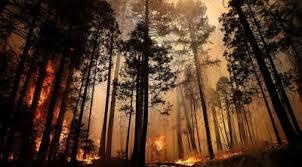fire: (25, 61, 87, 158)
